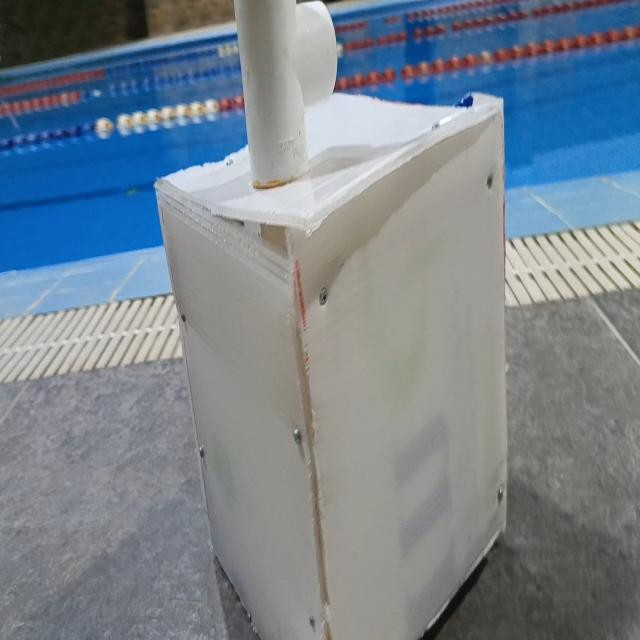Cube: (152, 87, 510, 637)
